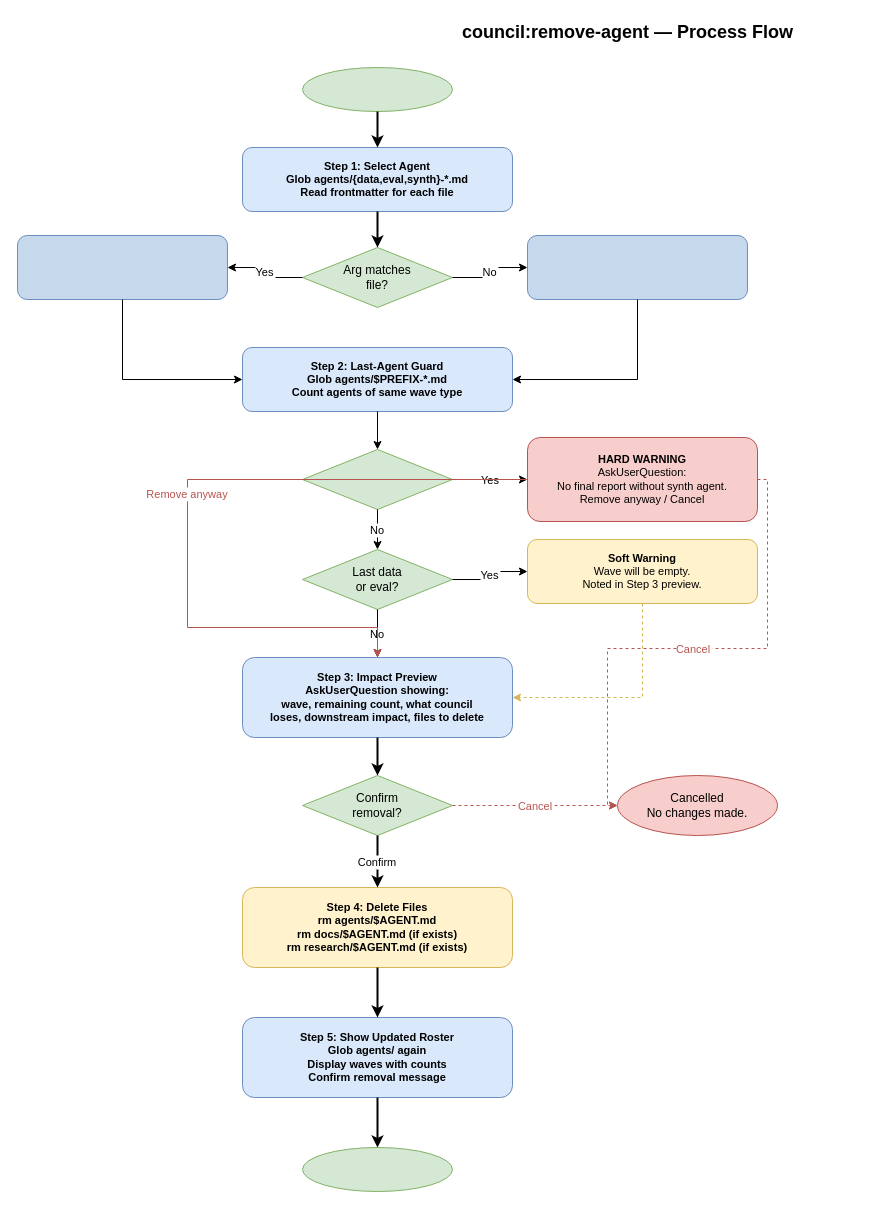
Image size: 895x1209. Some labels were removed from this diagram. The centre of each missing label's shape, as x and y in pixels:
Done: (x=377, y=1169)
Last synth agent?: (x=377, y=479)
Pre-select Agent $AGENT = agents/$ARGUMENTS.md: (x=122, y=267)
Show Roster Menu AskUserQuestion: options grouped by wave: (x=637, y=267)
Start: (x=377, y=89)
